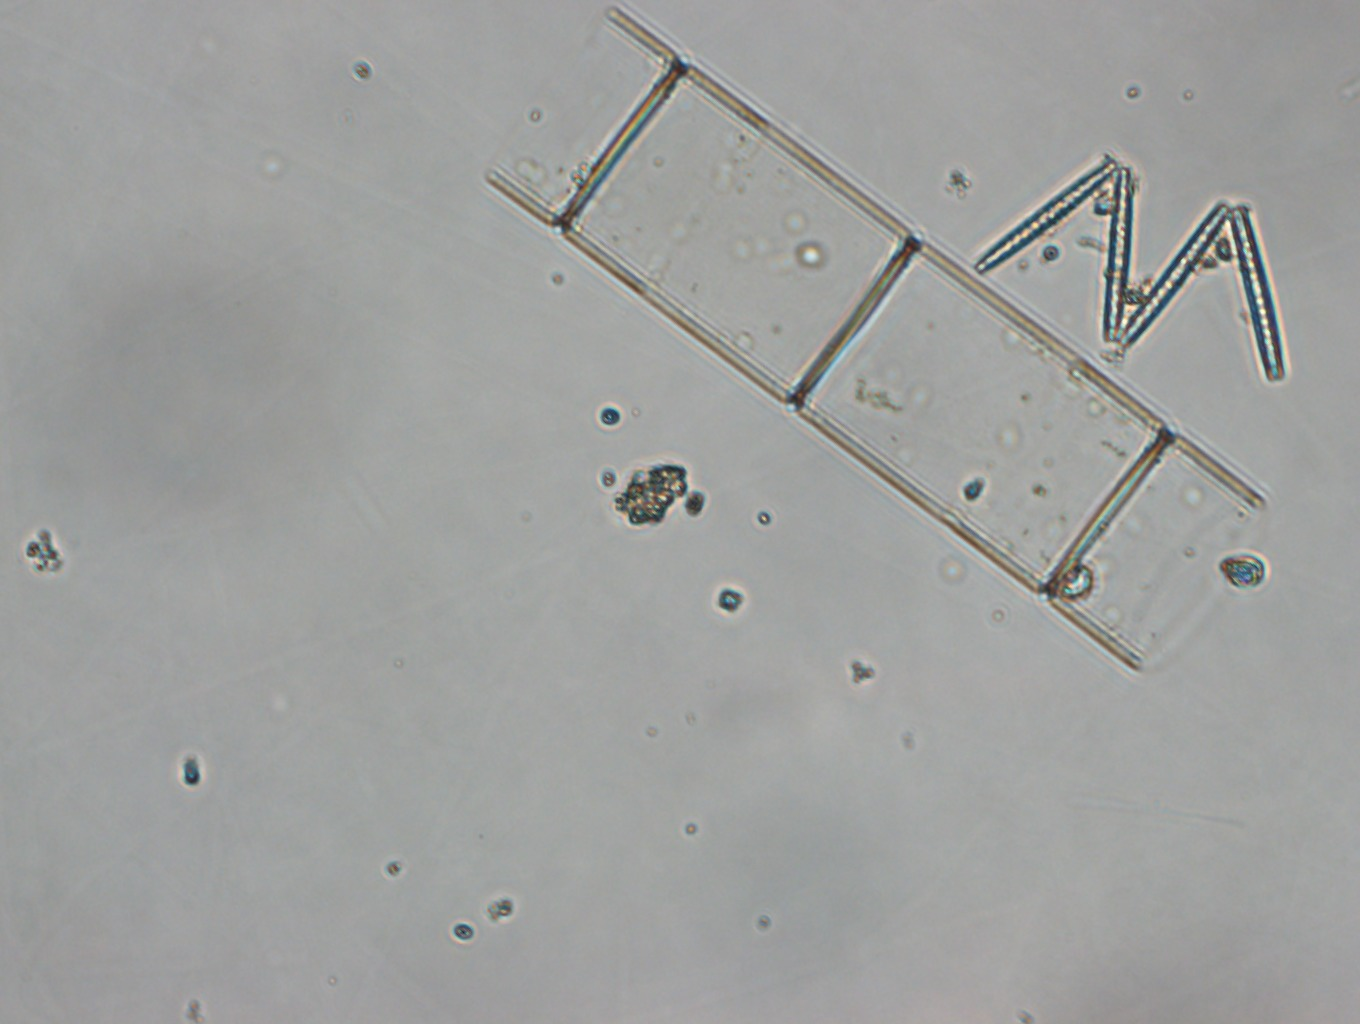guinardia flaccida: (488, 5, 1265, 681)
thalassionema nitzschioides: (964, 152, 1293, 390)
